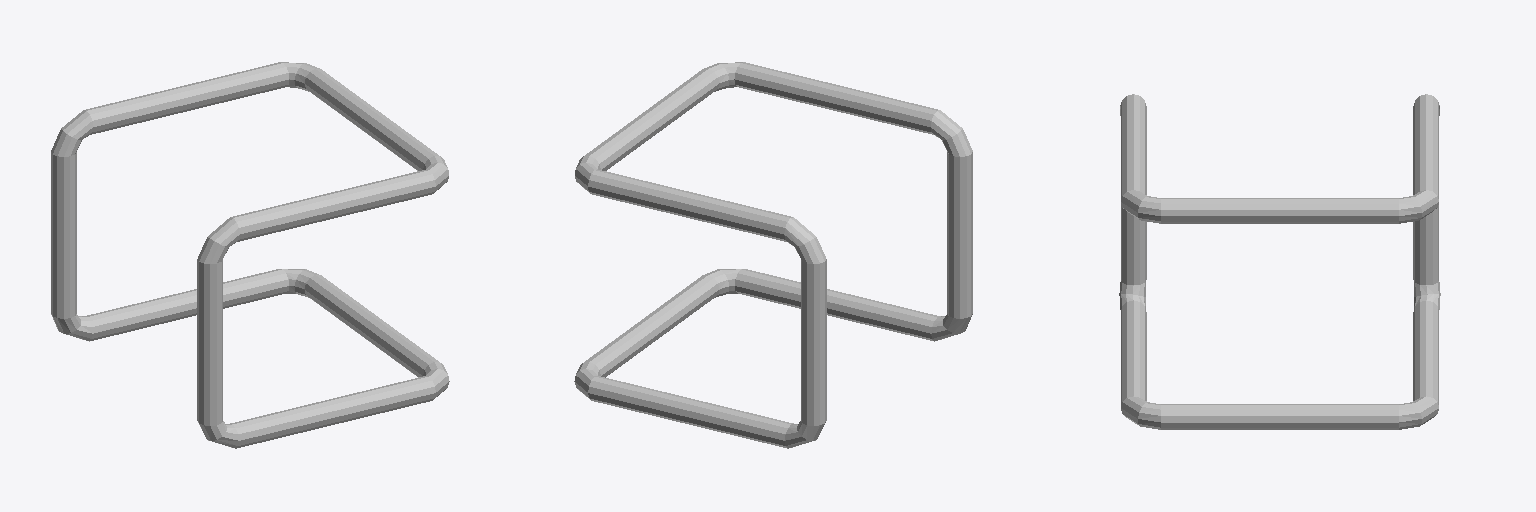
Rendered from chair_1.obj.
The picture shows the model from 3 angles: view 1: azimuth 30°, elevation 25°; view 2: azimuth 150°, elevation 25°; view 3: azimuth 270°, elevation 25°; orthographic projection.
Parts seen in each view (by area): view 1: Circle_Circle.001; view 2: Circle_Circle.001; view 3: Circle_Circle.001.
Part boxes in pixels (bbox=[...]): Circle_Circle.001: bbox=[51, 62, 449, 448]; Circle_Circle.001: bbox=[574, 62, 972, 448]; Circle_Circle.001: bbox=[1119, 94, 1440, 429].
Bounding box in the file's own units: 5.09 × 4.3 × 5.44.